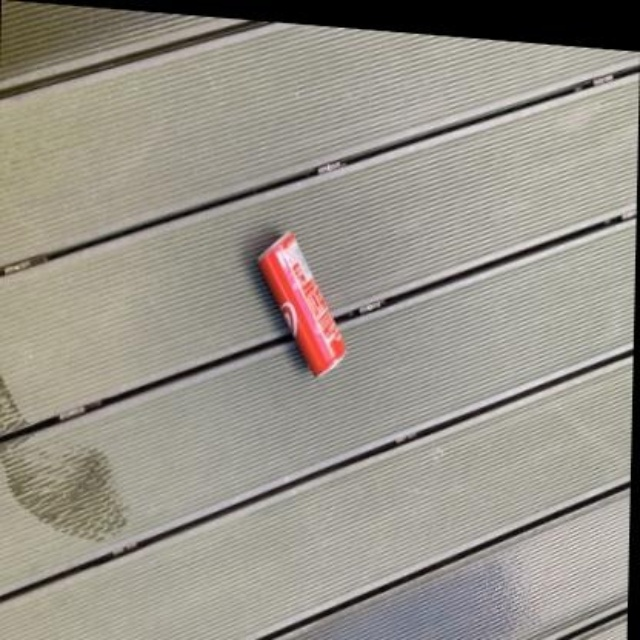trash: (258, 232, 343, 374)
